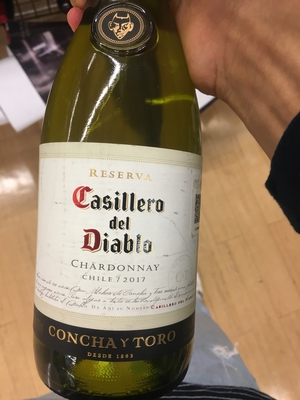casillero del diablo chardonnay: (25, 13, 210, 400)
